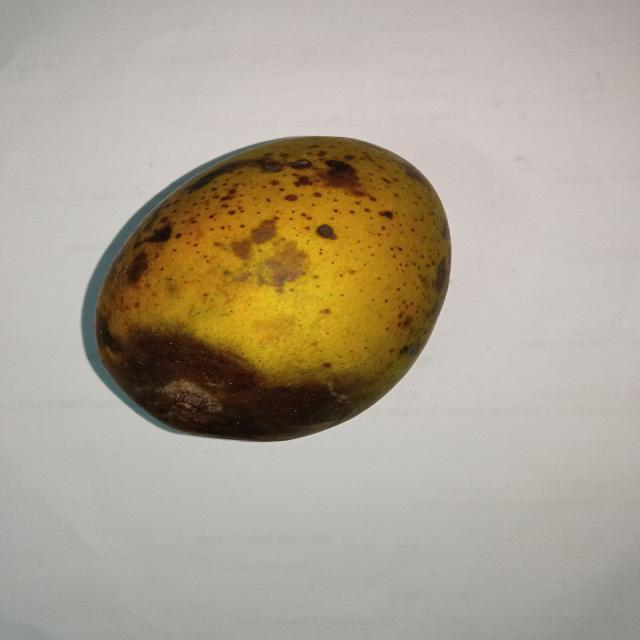rotten_mango: (88, 135, 453, 439)
